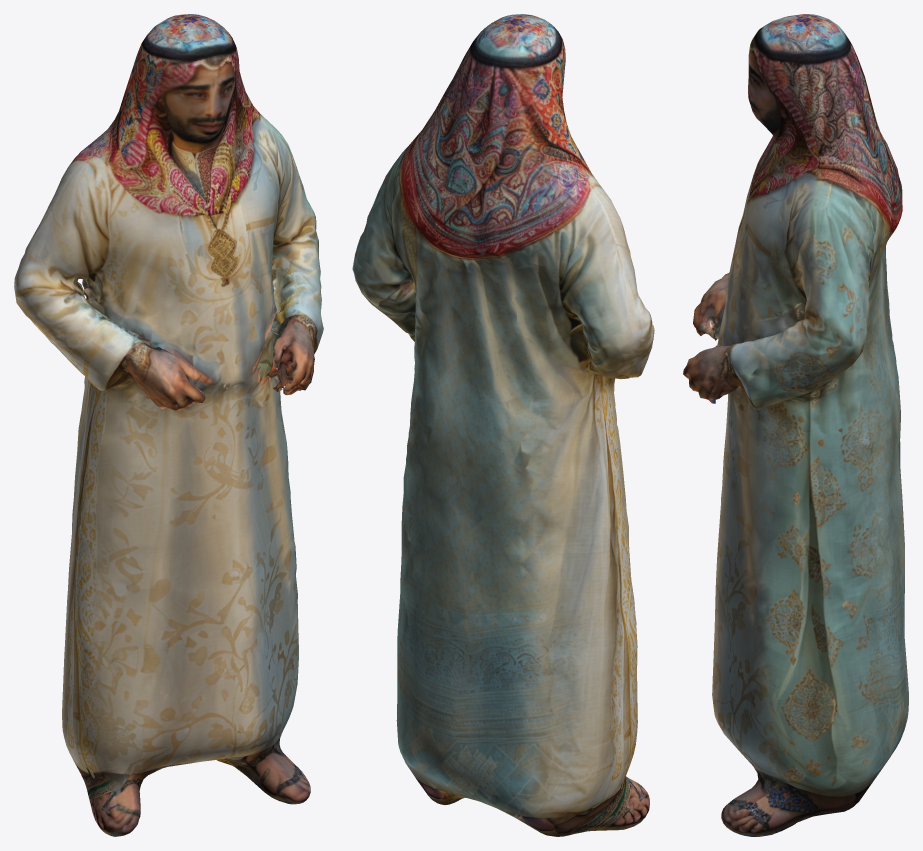
File: arab_man_wearing_arab_1129154524_refine.fbx
3 views of the same model, side by side, from view 1: azimuth 30°, elevation 25°; view 2: azimuth 150°, elevation 25°; view 3: azimuth 270°, elevation 25° (orthographic).
Visible parts, largest first — view 1: Mesh_0; view 2: Mesh_0; view 3: Mesh_0.
Boxes of the visible parts, box(x1,y1,x2,y2) form: Mesh_0: box(14, 14, 323, 836); Mesh_0: box(352, 14, 654, 836); Mesh_0: box(683, 14, 908, 836).
Size of the model in its own units: 46.86 by 120 by 31.5.
1 material, 1 textured.
